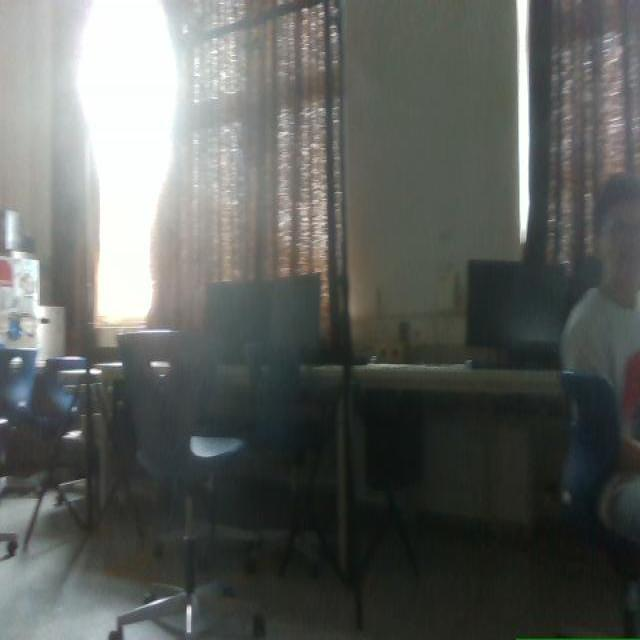humans: (562, 175, 639, 544)
objects: (109, 331, 244, 639), (246, 344, 337, 575), (561, 371, 639, 637), (0, 348, 85, 550), (355, 390, 423, 575), (23, 356, 86, 549), (0, 419, 8, 461)
